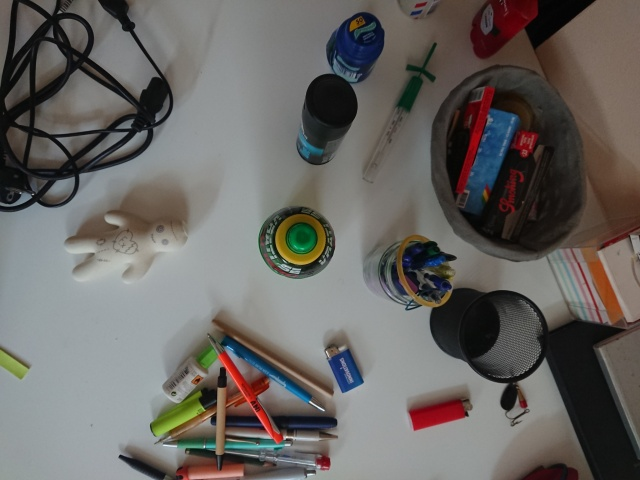Vindi Iso Sport Lemon-Grapefruit 500mL: (255, 204, 338, 282)
